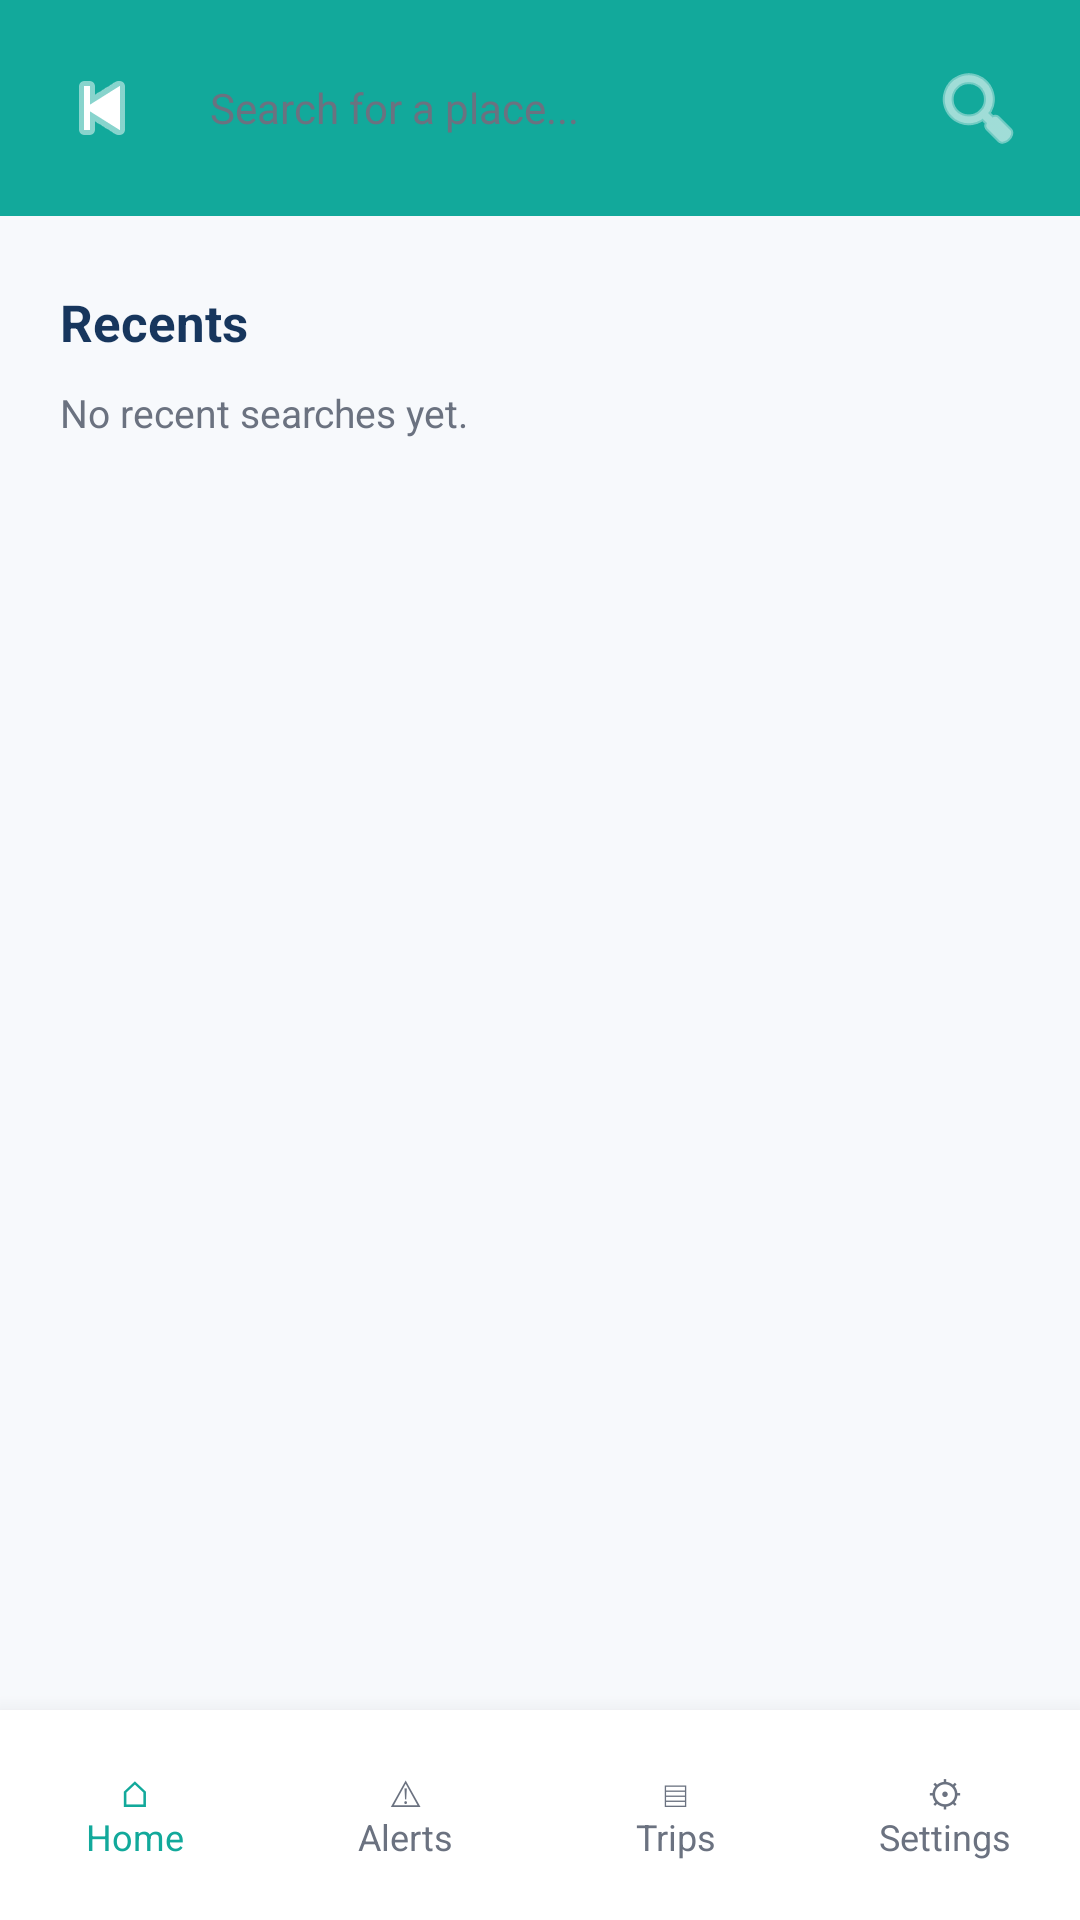

Icons on this 1080x1920 Android screen, each with the point to tap as (x,y):
Go back: (102,108)
